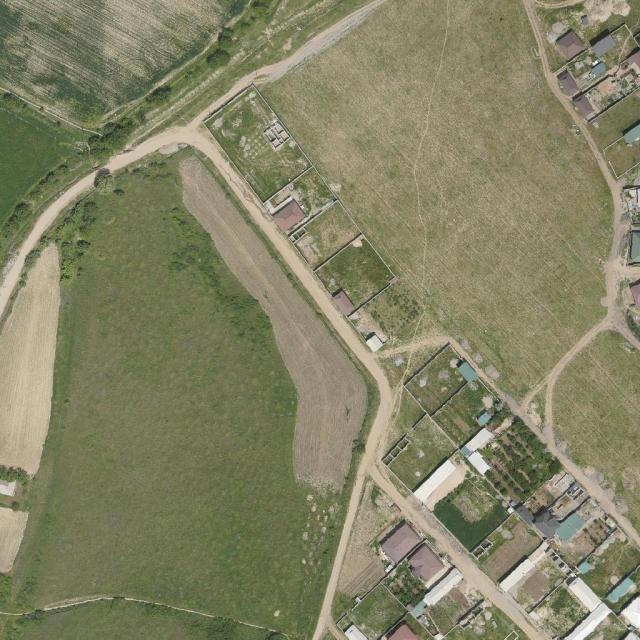agricultural_land: (168, 127, 399, 503), (335, 477, 408, 604), (335, 477, 408, 603), (381, 414, 458, 492), (288, 201, 361, 270), (508, 555, 567, 614), (584, 90, 640, 151), (285, 166, 336, 219)
building: (412, 458, 458, 504), (377, 519, 423, 565), (402, 543, 446, 586), (421, 567, 464, 608), (497, 556, 537, 594), (567, 576, 603, 612), (271, 198, 307, 233), (553, 511, 587, 544), (554, 28, 586, 61), (261, 120, 292, 151), (604, 576, 636, 605), (533, 511, 563, 541), (555, 68, 581, 98), (571, 91, 597, 121), (331, 288, 357, 317), (590, 33, 617, 59), (514, 503, 539, 527), (456, 359, 479, 385), (364, 333, 385, 354), (629, 230, 640, 263), (590, 60, 609, 78), (476, 411, 493, 427), (630, 281, 640, 307)
dryland: (335, 477, 408, 603), (0, 507, 28, 572)
greenland: (9, 143, 388, 640), (204, 85, 312, 202), (1, 93, 88, 224), (470, 417, 564, 510), (430, 469, 514, 553), (348, 278, 432, 360), (315, 234, 397, 316), (381, 416, 457, 492), (469, 512, 543, 585), (405, 346, 476, 416), (289, 200, 361, 269), (576, 529, 640, 599), (373, 325, 442, 388), (347, 583, 409, 640), (508, 555, 567, 613), (82, 109, 142, 165), (531, 584, 590, 640), (422, 584, 475, 637), (523, 467, 577, 519), (382, 559, 433, 611)
unmetalled_road: (124, 97, 445, 419), (180, 0, 393, 133), (393, 488, 529, 631), (512, 0, 599, 163), (522, 307, 612, 445), (311, 467, 373, 640), (514, 0, 583, 131), (104, 125, 189, 182), (557, 452, 616, 510), (356, 419, 388, 479)
